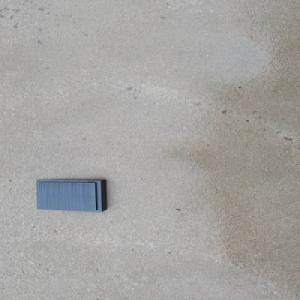PlasticPart: (34, 177, 108, 212)
